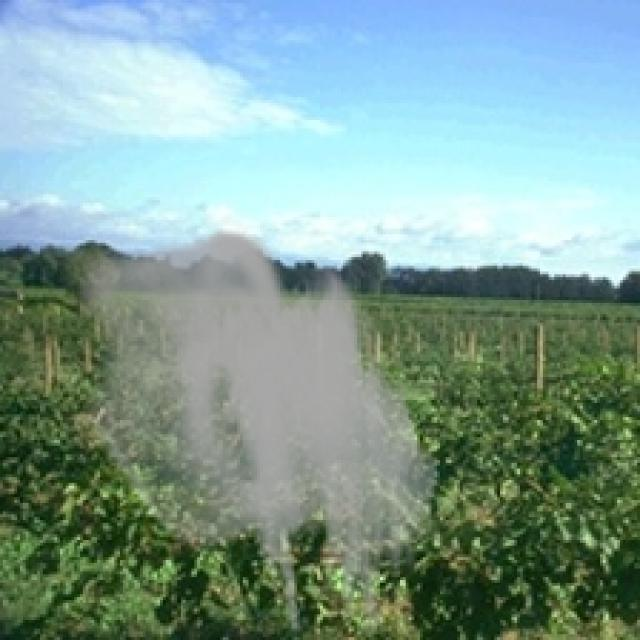Smoke: (77, 228, 443, 634)
